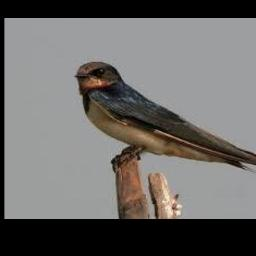Swallow: (75, 63, 256, 171)
